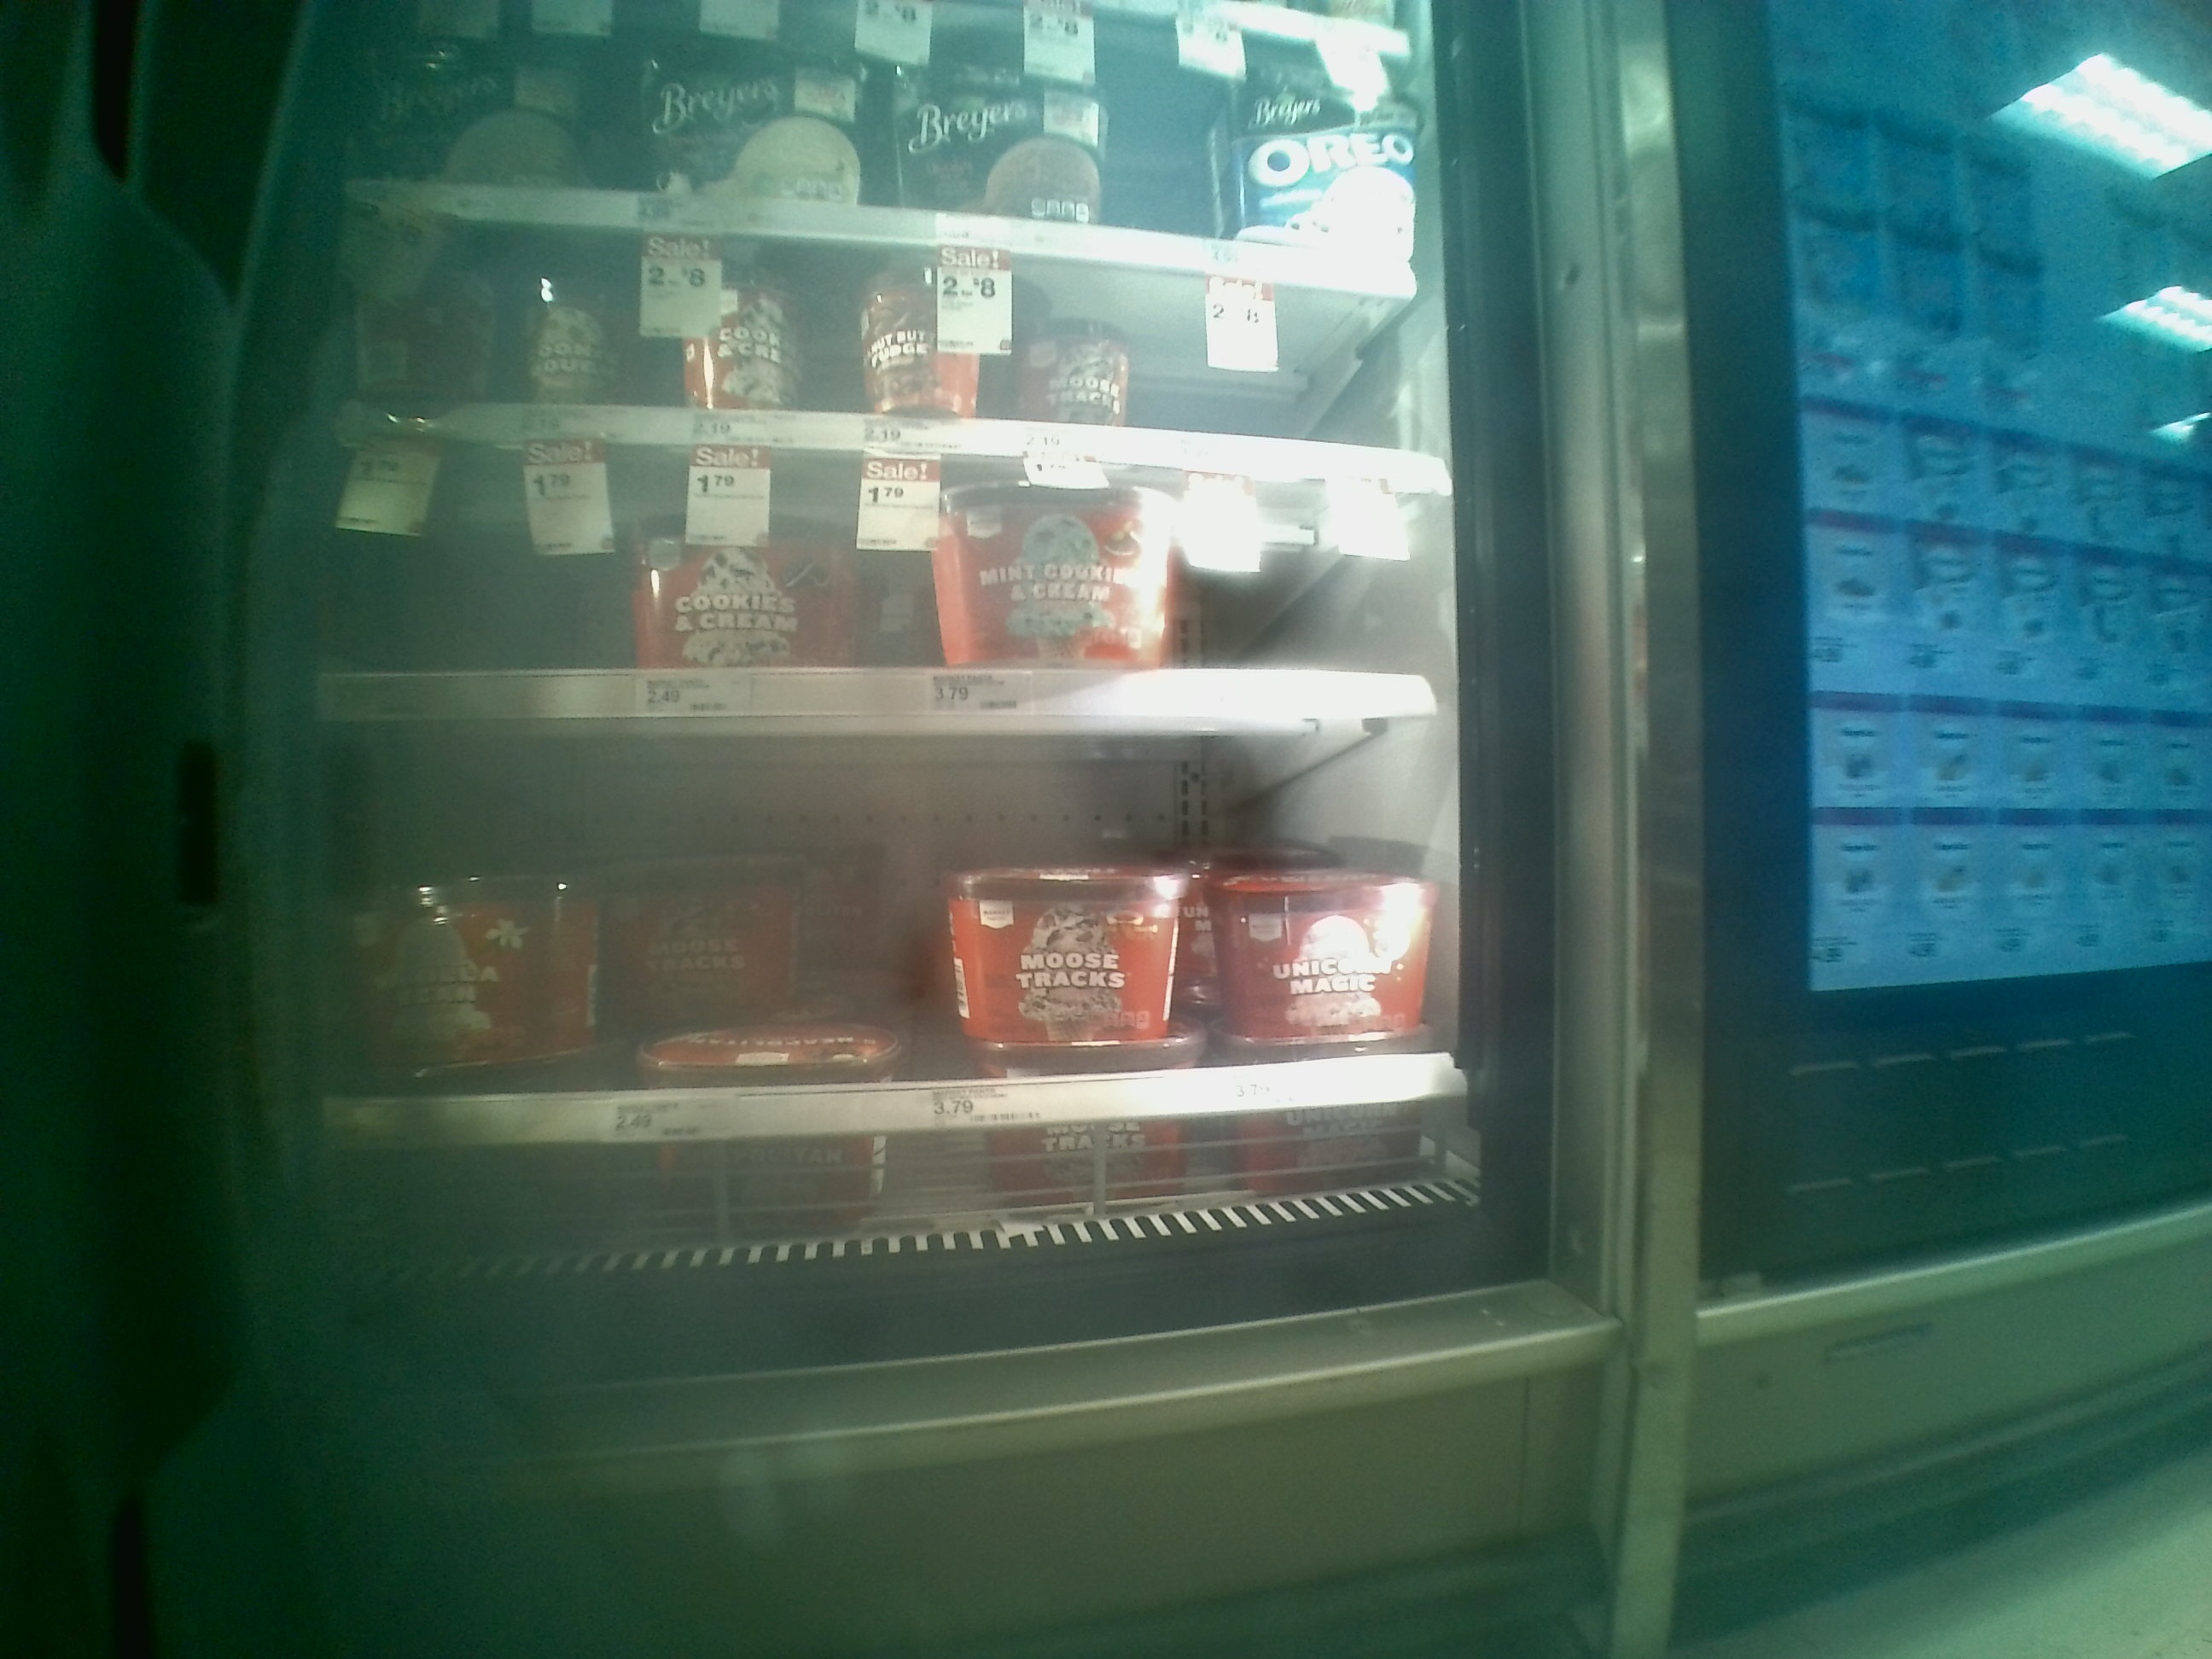ice-cream-shelf: (307, 723, 1460, 1115)
